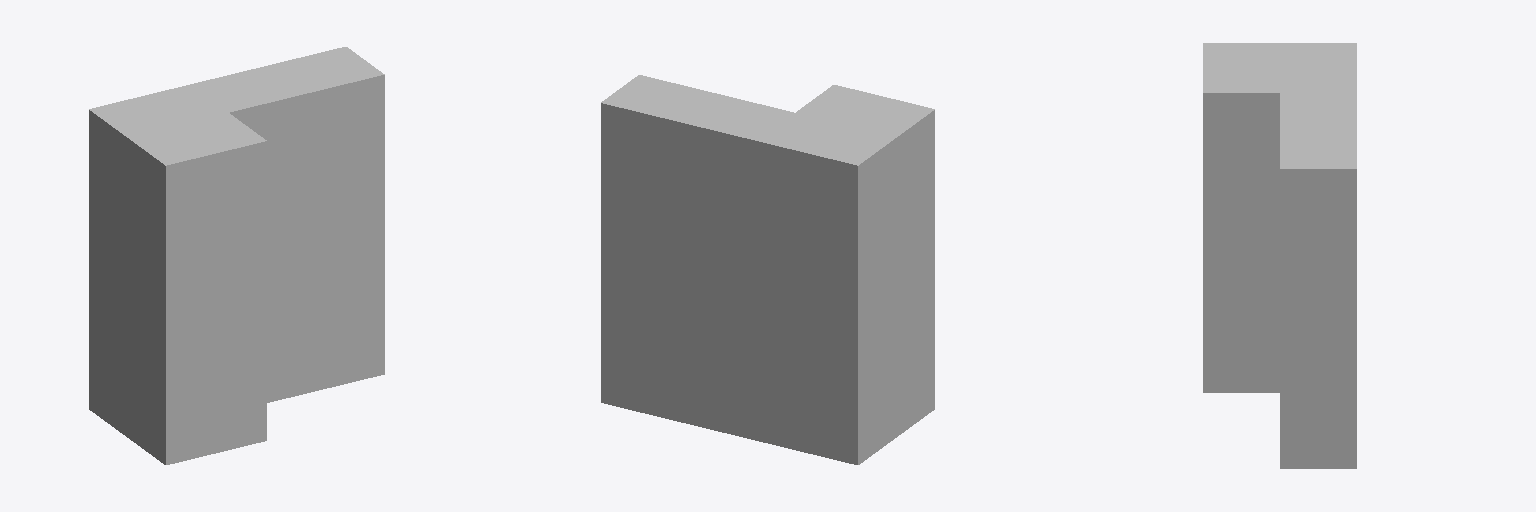
File: Building2.obj
The picture shows the model from 3 angles: view 1: azimuth 30°, elevation 25°; view 2: azimuth 150°, elevation 25°; view 3: azimuth 270°, elevation 25°; orthographic projection.
Parts seen in each view (by area): view 1: Box001; view 2: Box001; view 3: Box001.
Boxes of the visible parts, x1=… form: Box001: x1=89, y1=47, x2=384, y2=464; Box001: x1=601, y1=75, x2=934, y2=464; Box001: x1=1203, y1=43, x2=1356, y2=468.
Size of the model in its own units: 50.47 by 56.12 by 26.2.